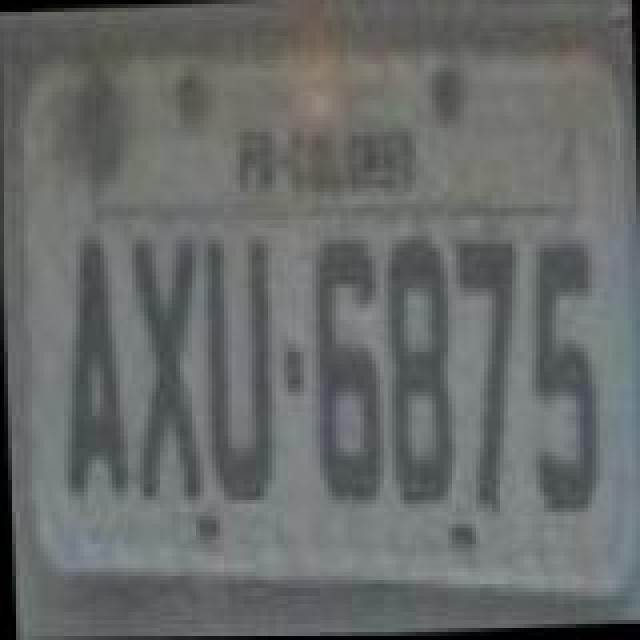5: (524, 230, 604, 526)
6: (310, 234, 386, 510)
7: (450, 236, 518, 508)
8: (380, 238, 452, 514)
A: (54, 232, 130, 500)
U: (198, 236, 274, 512)
X: (126, 234, 202, 502)
